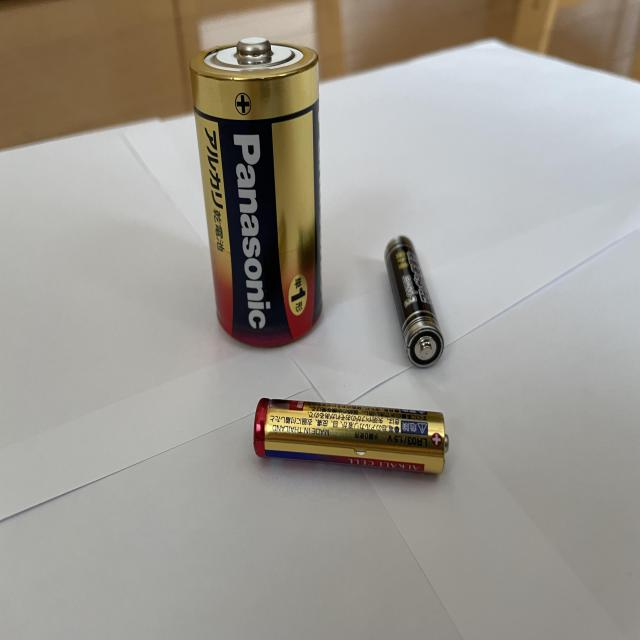AAA: (251, 393, 449, 475), (384, 236, 446, 370)
